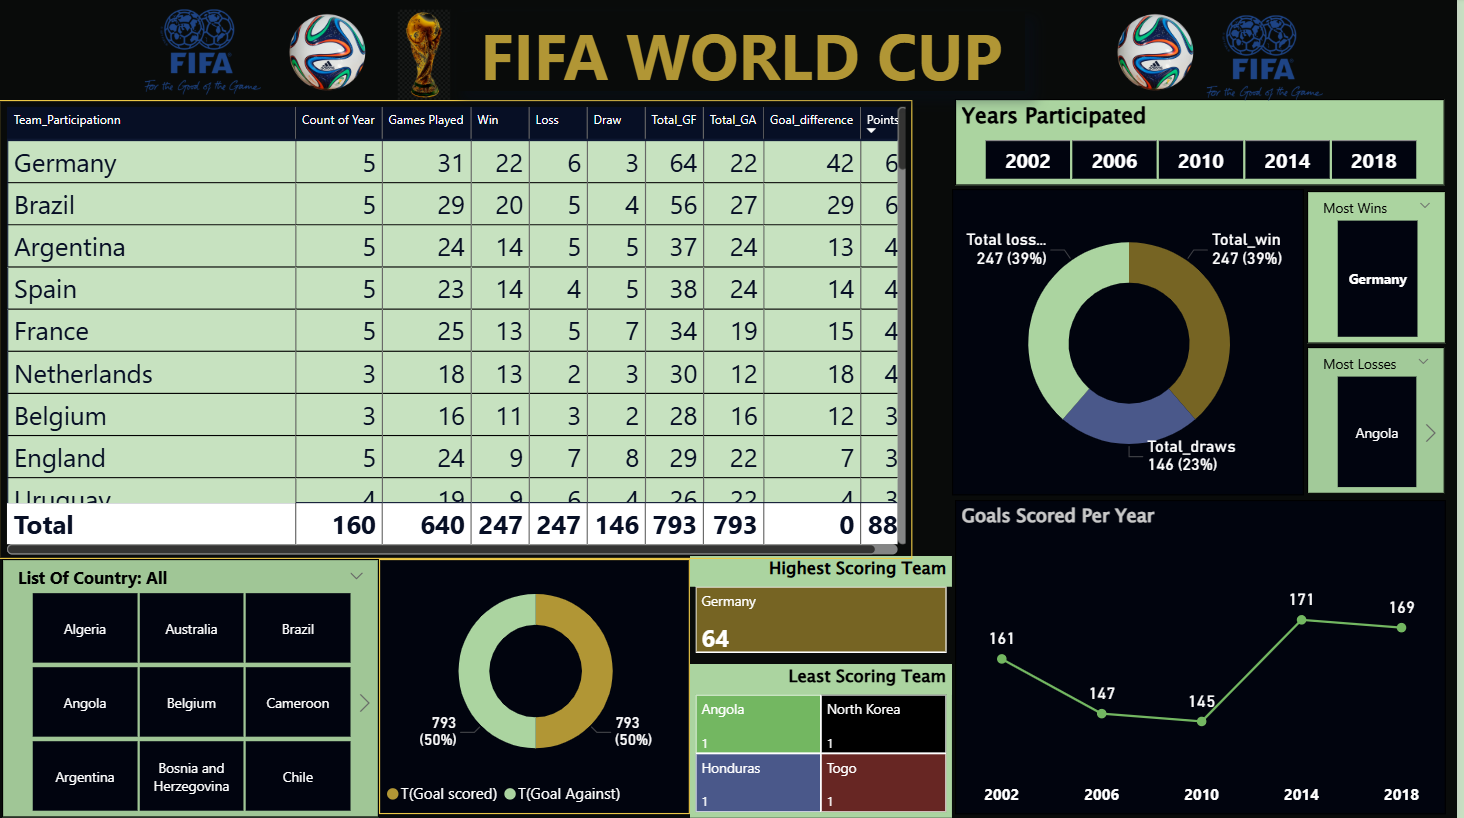

The page's visual inventory and layout, read from the dashboard file:
{"tool":"powerbi","page":{"name":"World Cup Dashboard","canvas":[1280,720],"ordinal":0},"visuals":[{"type":"slicer","fields":{"Values":["Team.Team_Participationn"]},"box":[1148.3,169.6,122.2,133.7],"z":0},{"type":"slicer","fields":{"Values":["Team.Team_Participationn"]},"box":[1148.3,306.1,120.7,129.3],"z":1000},{"type":"slicer","title":"Years Participated","fields":{"Values":["WC_02-20.Year"]},"box":[839.3,89.1,429.7,76.2],"z":2000},{"type":"donutChart","fields":{"Y":["DAX1.Total_GF","DAX1.Total_GA"]},"box":[333.4,492.9,273.1,224.2],"z":3000},{"type":"donutChart","fields":{"Y":["DAX1.Total_win","DAX1.T(Draws)","DAX1.Total losses"]},"box":[836.4,168.1,309,268.7],"z":4000},{"type":"slicer","fields":{"Values":["Team.Team_Participationn"]},"box":[2.9,492.9,330.5,227.1],"z":5000},{"type":"lineChart","title":"Goals Scored Per Year","fields":{"Y":["Sum(WC_02-20.Goals For)"],"Category":["WC_02-20.Year"]},"box":[839.3,441.2,431.1,275.9],"z":6000},{"type":"treemap","title":"Highest Scoring Team","fields":{"Group":["Team.Team_Participationn"],"Values":["DAX1.Total_GF"]},"box":[606.7,490,230,89.6],"z":7000},{"type":"treemap","title":"Least Scoring Team","fields":{"Group":["Team.Team_Participationn"],"Values":["DAX1.Total_GF"]},"box":[606.5,584.9,229.9,135.1],"z":8000},{"type":"tableEx","fields":{"Values":["Team.Team_Participationn","CountNonNull(WC_02-20.Year)","Sum(WC_02-20.Games Played)","Sum(WC_02-20.Win)","Sum(WC_02-20.Loss)","Sum(WC_02-20.Draw)","DAX1.Total_GF","DAX1.Total_GA","DAX1.Goal_difference","Sum(WC_02-20.Points)"]},"box":[0,89.5,802.4,403.3],"z":9000},{"type":"textbox","title":"FIFA WORLD CUP","box":[401.7,12.7,499.3,69.3],"z":10000},{"type":"image","box":[236.2,5.7,273,89.1],"z":12000},{"type":"image","box":[123.1,0,111.7,94.8],"z":13000},{"type":"image","box":[1055.2,5.7,111.7,94.8],"z":14000},{"type":"image","box":[239.1,0,99,94.8],"z":15000},{"type":"image","box":[966.1,0,99,94.8],"z":16000}]}

Visuals, with their boxes in screenshot pixels (x1, y1, x2, y2), scaled from the page's 1280x720 canvas onto the 1464x818 screenshot:
slicer - Team.Team_Participationn: crop(1313, 193, 1453, 345)
slicer - Team.Team_Participationn: crop(1313, 348, 1451, 495)
"Years Participated" slicer: crop(960, 101, 1451, 188)
donutChart - DAX1.Total_GF x DAX1.Total_GA: crop(381, 560, 694, 815)
donutChart - DAX1.Total_win x DAX1.T(Draws): crop(957, 191, 1310, 496)
slicer - Team.Team_Participationn: crop(3, 560, 381, 817)
"Goals Scored Per Year" lineChart: crop(960, 501, 1453, 815)
"Highest Scoring Team" treemap: crop(694, 557, 957, 658)
"Least Scoring Team" treemap: crop(694, 665, 957, 817)
tableEx - Team.Team_Participationn x CountNonNull(WC_02-20.Year): crop(0, 102, 918, 560)
"FIFA WORLD CUP" textbox: crop(459, 14, 1031, 93)
image: crop(270, 6, 582, 108)
image: crop(141, 0, 269, 108)
image: crop(1207, 6, 1335, 114)
image: crop(273, 0, 387, 108)
image: crop(1105, 0, 1218, 108)
